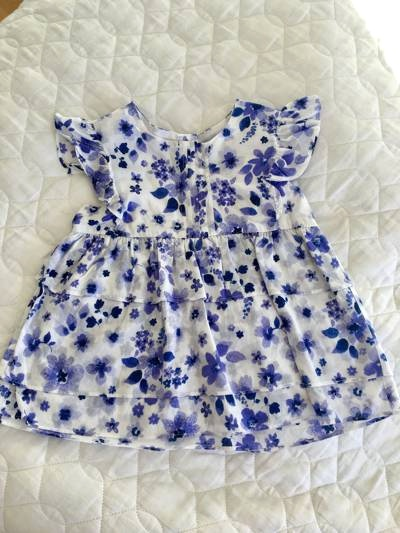Dress: (18, 73, 373, 441)
